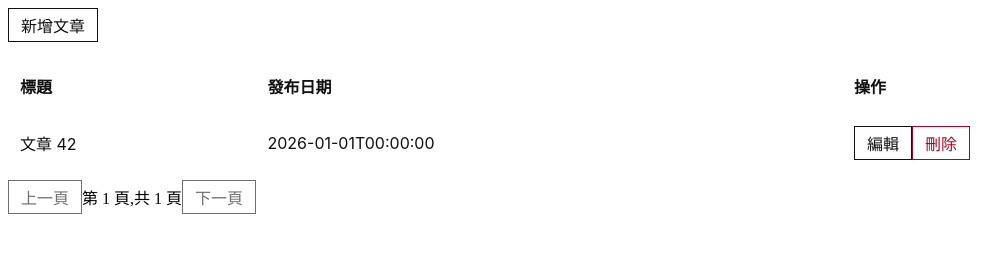
Scenario: ArticlesList › 刪除確認互動(SDLCAIP1-14) › SDLCAIP1-14 AC6: 非預期錯誤(如 500)時文章仍保留在列表,顯示可重試的通用錯誤訊息
Expected: the text "文章 42" is shown, [8,118,256,168]
What coordinates should you click on to do the following:
click the button with test id "delete-article-42"
I would click on:
 (941, 143)
Its box is [912,126,970,160].
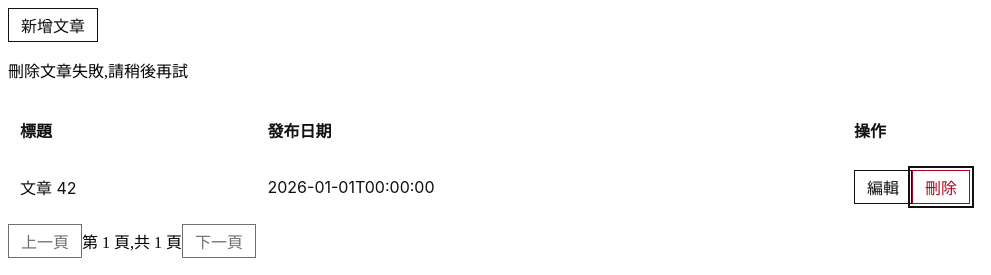
Expected: the text "文章 42" is shown, [8,162,256,212]
Expected: the text "刪除文章失敗,請稍後再試" is shown, [8,63,188,80]
